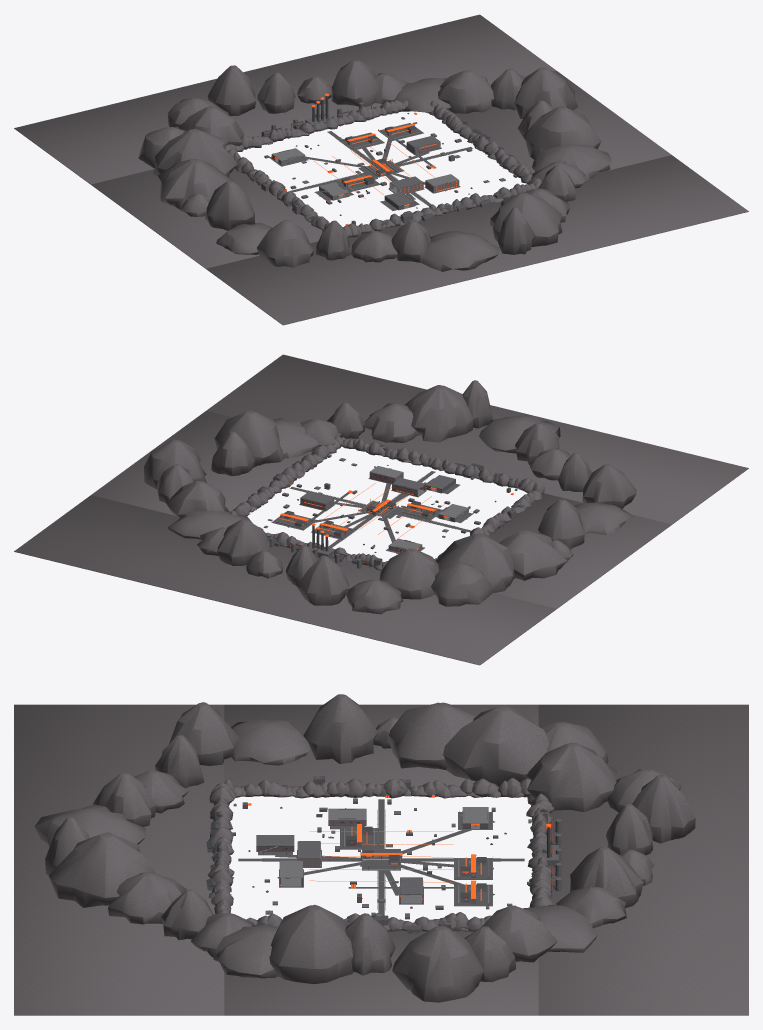
The picture shows the model from 3 angles, top to bottom: view 1: azimuth 30°, elevation 25°; view 2: azimuth 150°, elevation 25°; view 3: azimuth 270°, elevation 25°; orthographic projection. The views are drawn at different scales.
Visible parts, largest first — view 1: HB_z05_LOD0_terrain, HB_z05_LOD0_wall_alt, HB_z05_LOD0_road, HB_z05_LOD0_wall, HB_z05_LOD0_trim, HB_z05_LOD0_emissive, HB_z05_LOD0_obstacle; view 2: HB_z05_LOD0_terrain, HB_z05_LOD0_wall_alt, HB_z05_LOD0_road, HB_z05_LOD0_wall, HB_z05_LOD0_trim, HB_z05_LOD0_emissive, HB_z05_LOD0_obstacle; view 3: HB_z05_LOD0_terrain, HB_z05_LOD0_road, HB_z05_LOD0_wall_alt, HB_z05_LOD0_wall, HB_z05_LOD0_trim, HB_z05_LOD0_emissive, HB_z05_LOD0_obstacle.
Boxes of the visible parts, x1,y1,x2,y2 form: HB_z05_LOD0_terrain: (14, 14, 748, 325); HB_z05_LOD0_wall_alt: (250, 102, 516, 227); HB_z05_LOD0_road: (270, 123, 472, 210); HB_z05_LOD0_wall: (271, 124, 459, 209); HB_z05_LOD0_trim: (241, 96, 516, 223); HB_z05_LOD0_emissive: (268, 93, 477, 225); HB_z05_LOD0_obstacle: (264, 105, 516, 224); HB_z05_LOD0_terrain: (14, 354, 748, 665); HB_z05_LOD0_wall_alt: (248, 445, 523, 568); HB_z05_LOD0_road: (272, 465, 471, 553); HB_z05_LOD0_wall: (275, 466, 468, 552); HB_z05_LOD0_trim: (250, 444, 524, 567); HB_z05_LOD0_emissive: (279, 483, 513, 551); HB_z05_LOD0_obstacle: (263, 455, 517, 562); HB_z05_LOD0_terrain: (14, 694, 748, 1015); HB_z05_LOD0_road: (238, 799, 524, 915); HB_z05_LOD0_wall_alt: (206, 776, 561, 933); HB_z05_LOD0_wall: (256, 807, 489, 904); HB_z05_LOD0_trim: (206, 776, 556, 932); HB_z05_LOD0_emissive: (248, 795, 551, 900); HB_z05_LOD0_obstacle: (233, 802, 550, 919).
Bounding box in the file's own units: 734 × 63.86 × 734.
Materials: 10 (8 with a texture image).
